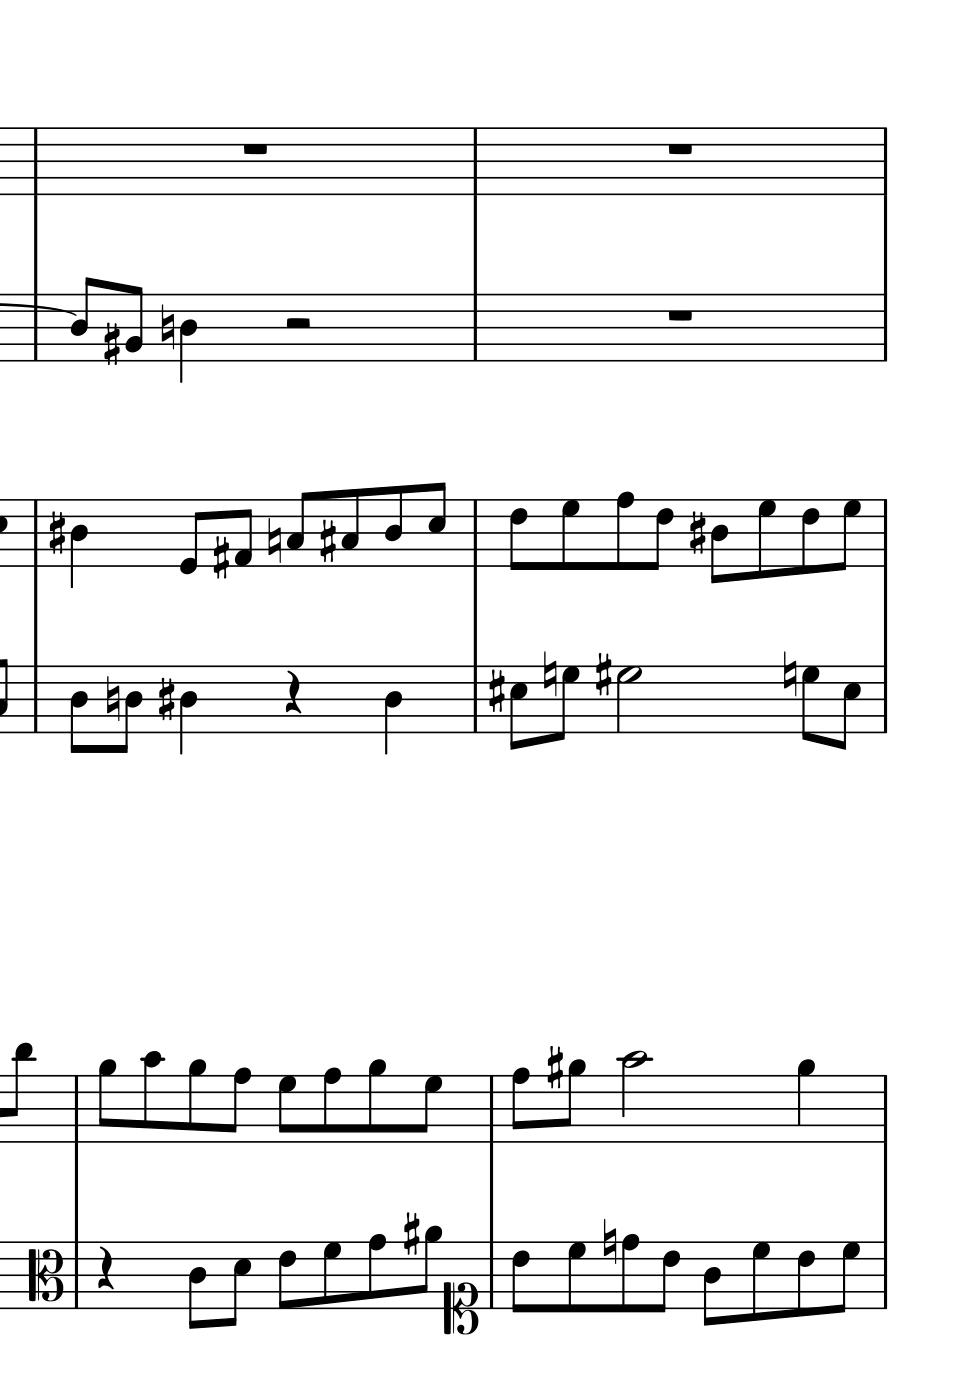2_10: (618, 1047, 649, 1144)
2_7: (615, 664, 641, 735)
4_4: (177, 664, 199, 756), (382, 664, 403, 757), (177, 293, 198, 384), (68, 497, 89, 589)
4_9: (795, 1057, 816, 1144)
8_0: (178, 498, 207, 577)
8_1: (232, 498, 253, 571)
8_10: (141, 1050, 165, 1145)
8_11: (4, 1041, 34, 1146)
8_2: (123, 284, 144, 364)
8_3: (285, 490, 311, 568), (339, 487, 362, 568)
8_4: (117, 662, 143, 754), (69, 276, 97, 363), (66, 661, 90, 756), (183, 1240, 207, 1331), (383, 483, 406, 568), (701, 1240, 722, 1328), (708, 497, 729, 584)
8_5: (223, 1240, 252, 1329), (835, 663, 862, 752), (425, 481, 449, 568), (507, 664, 529, 752)
8_6: (653, 1240, 681, 1314), (798, 497, 821, 576), (650, 498, 673, 573), (510, 1240, 532, 1315), (507, 497, 529, 571), (795, 1240, 815, 1319), (277, 1240, 297, 1312)
8_7: (549, 664, 579, 743), (832, 497, 862, 572), (832, 1240, 861, 1314), (415, 1074, 442, 1144), (749, 1239, 771, 1322), (755, 497, 777, 579), (799, 663, 821, 743), (559, 497, 580, 571), (566, 1241, 588, 1314), (276, 1074, 297, 1144), (320, 1240, 342, 1310)
8_8: (222, 1066, 252, 1145), (612, 490, 635, 571), (509, 1066, 532, 1144), (365, 1232, 388, 1311), (320, 1066, 342, 1145), (619, 1233, 641, 1313)
8_9: (557, 1058, 587, 1144), (416, 1225, 444, 1311), (186, 1058, 207, 1144), (366, 1058, 387, 1144), (97, 1058, 117, 1144)
Cclef: (25, 1240, 65, 1310)
Natural: (265, 515, 283, 565), (780, 648, 798, 698), (102, 672, 120, 721), (540, 647, 557, 697), (599, 1217, 616, 1265), (159, 304, 175, 351)
Rests1: (664, 304, 696, 324), (664, 139, 696, 158), (239, 139, 272, 157)
Rests2: (282, 316, 313, 332)
Rests4: (94, 1243, 118, 1291), (282, 668, 303, 716)
Sharp: (485, 666, 507, 715), (399, 1209, 421, 1257), (685, 509, 707, 556), (544, 1043, 565, 1090), (156, 677, 176, 725), (47, 509, 66, 557), (102, 322, 121, 369), (318, 517, 337, 564), (211, 536, 229, 582), (594, 650, 612, 697)
Single_barline: (875, 665, 893, 733), (25, 294, 43, 361), (25, 128, 43, 194), (25, 501, 43, 566), (876, 1075, 893, 1143), (466, 128, 483, 195), (466, 501, 483, 567), (27, 665, 43, 732), (68, 1076, 85, 1143), (877, 499, 893, 568), (877, 1241, 893, 1310), (467, 294, 483, 362), (68, 1241, 84, 1309), (877, 128, 893, 195), (876, 294, 892, 361), (467, 666, 483, 732), (484, 1241, 498, 1310), (484, 1075, 498, 1143)
Soprano_Cclef: (442, 1240, 478, 1336)
